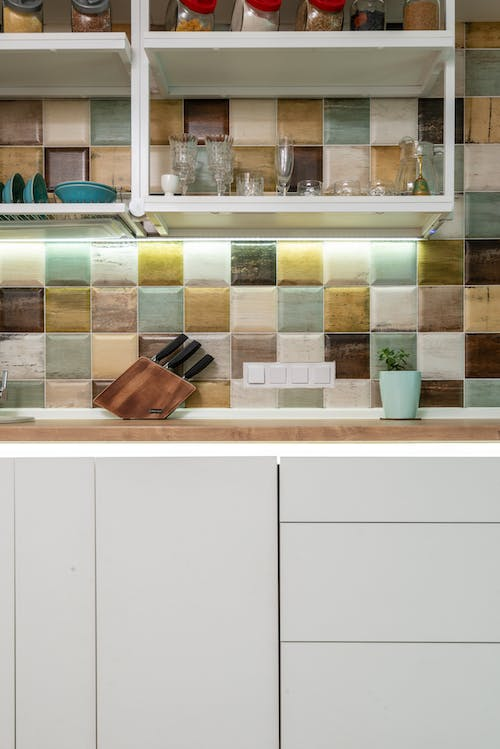knife: (162, 338, 203, 373), (149, 330, 190, 364), (179, 349, 216, 381)
